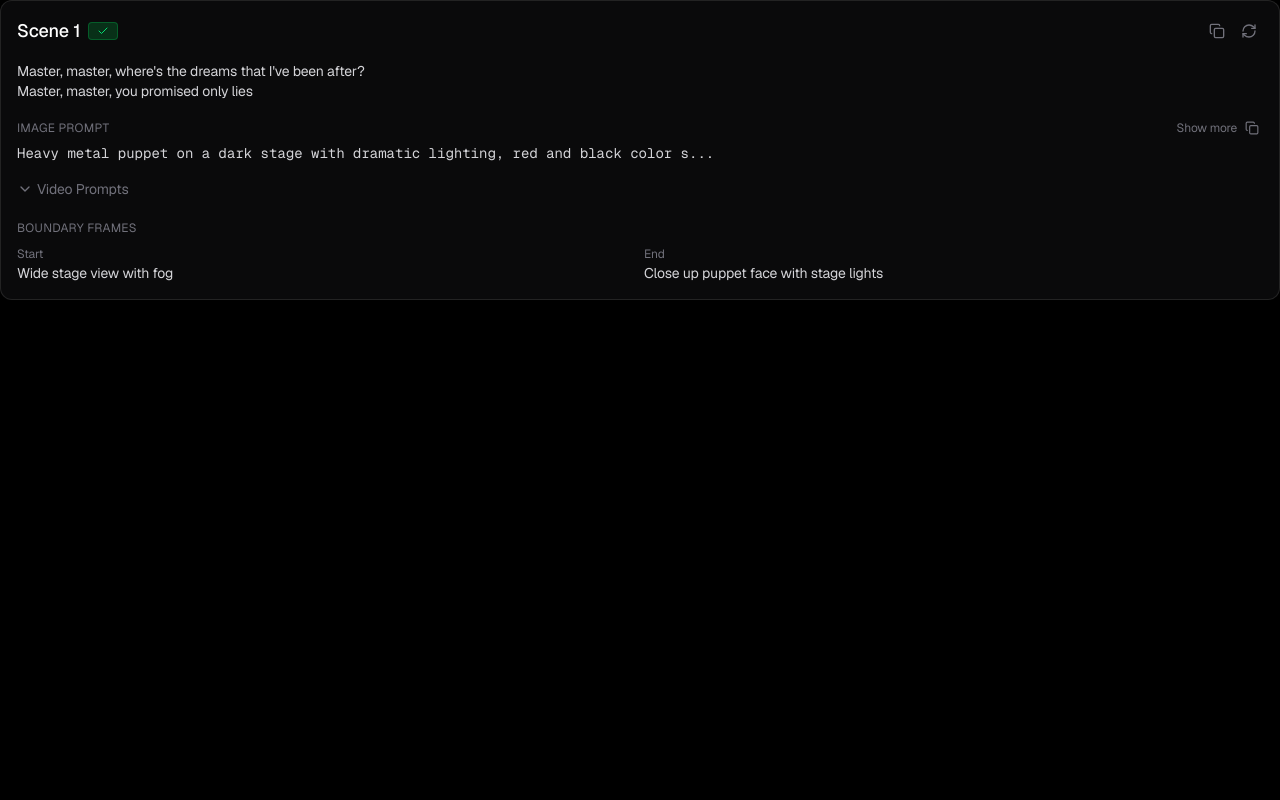
Test: SceneCard › Card Actions › shows confirmation before full scene reroll
This screenshot has width=1280, height=800.
What coordinates should you click on to do the following:
click the button named "reroll menu"
I would click on:
 (1249, 31)
Its box is x1=1235 y1=17 x2=1263 y2=45.
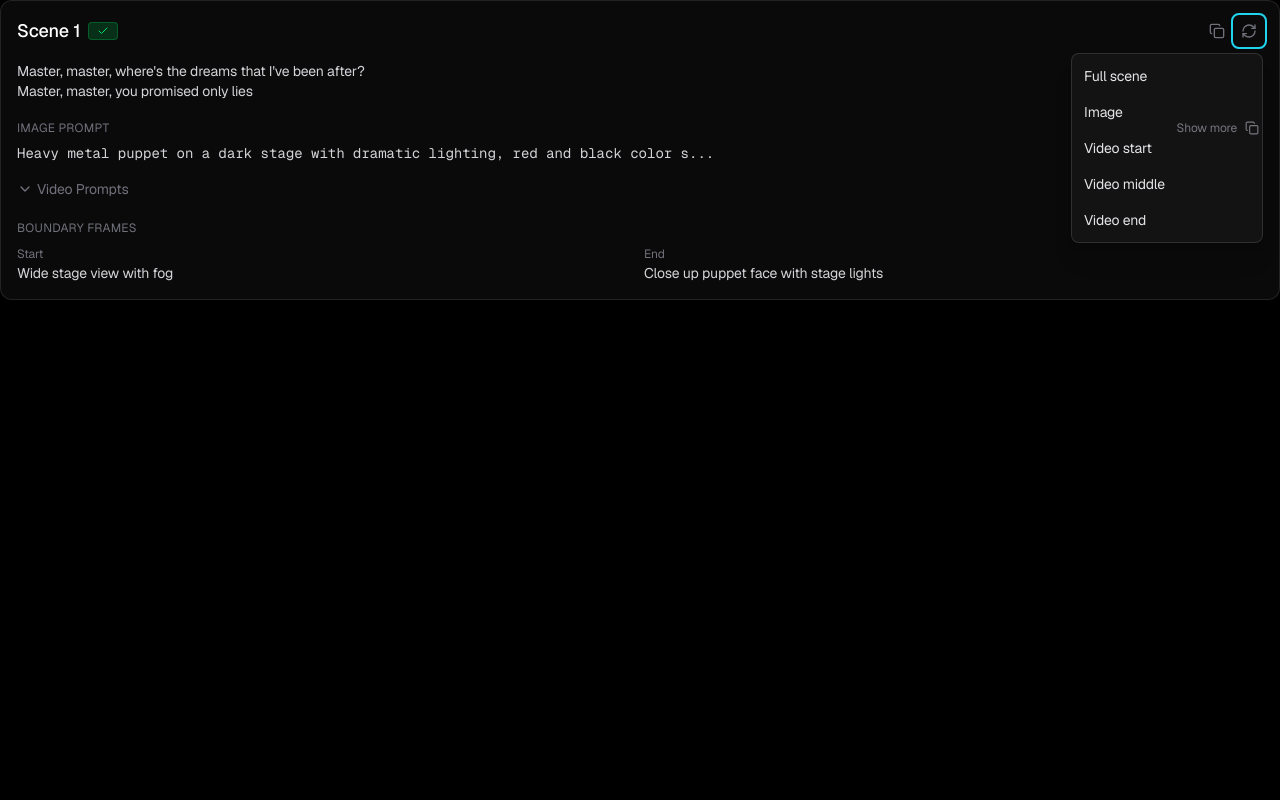
What coordinates should you click on to do the following:
click the button with aria-label "reroll full scene"
I would click on:
 (1167, 76)
Its box is x1=1072 y1=58 x2=1262 y2=94.
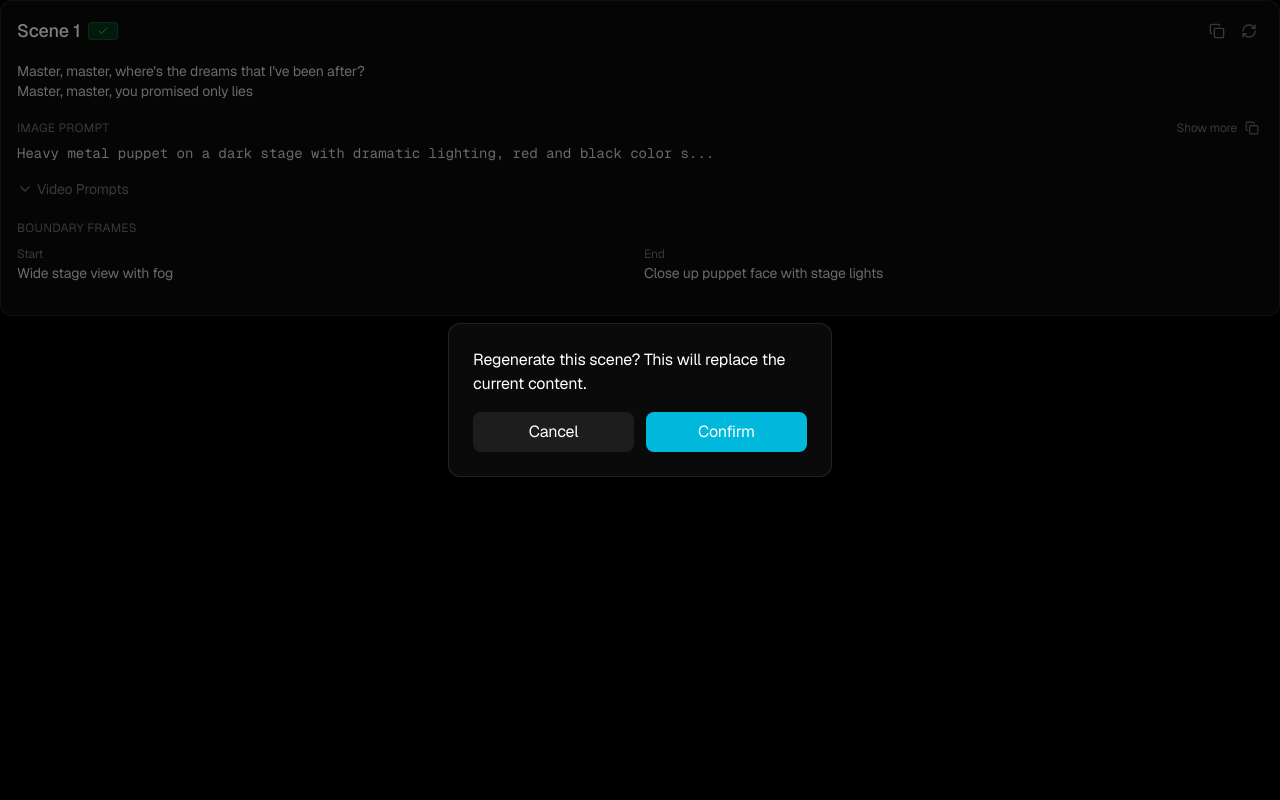
Expected: the text "Regenerate this scene" is shown, x1=473 y1=349 x2=785 y2=394
